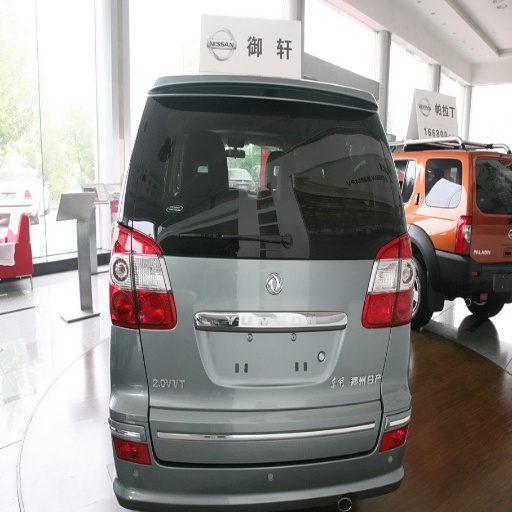back_bumper: (111, 324, 409, 505)
tailgate: (199, 279, 349, 408), (333, 211, 380, 246)
